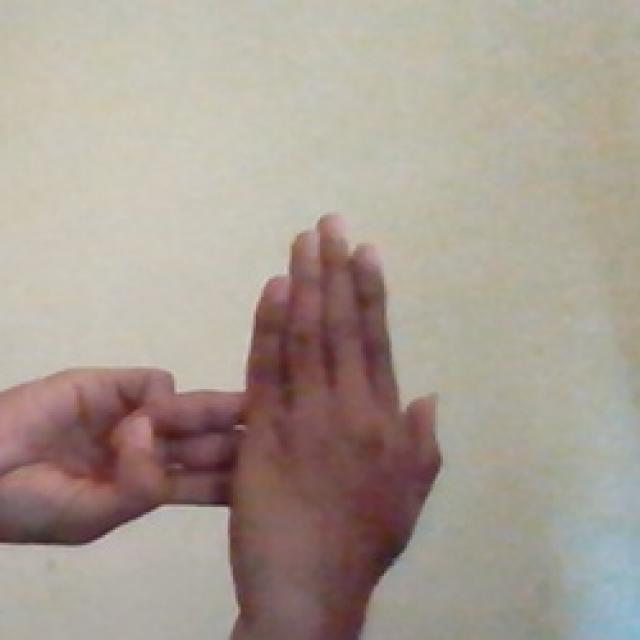Alphabet-M: (0, 196, 456, 626)
